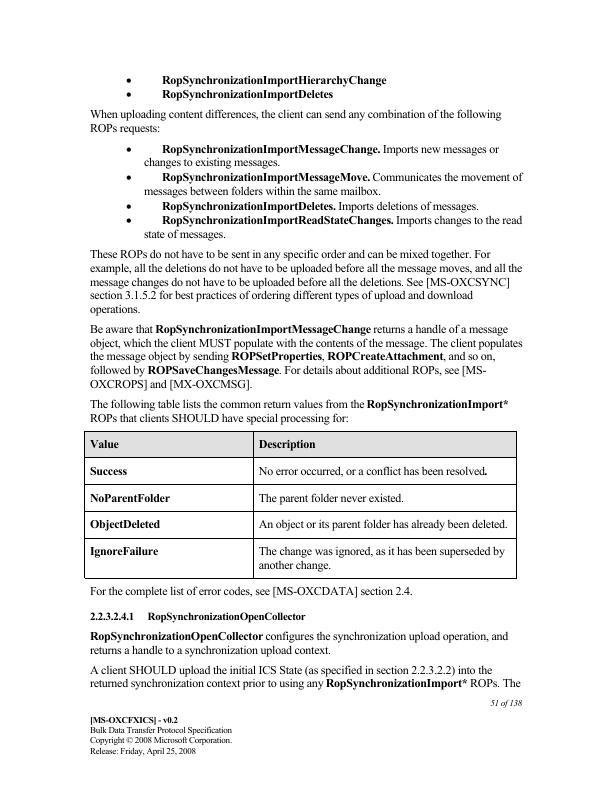table: (82, 429, 518, 579)
text: (86, 246, 524, 317), (87, 322, 524, 390), (88, 105, 504, 135), (87, 631, 512, 657), (86, 664, 523, 689), (87, 398, 505, 424), (140, 215, 525, 241), (140, 142, 502, 169), (141, 172, 527, 197), (86, 712, 234, 755), (86, 584, 412, 597), (158, 200, 480, 212), (87, 610, 308, 624), (159, 74, 388, 87), (159, 88, 334, 100), (487, 697, 524, 710)
